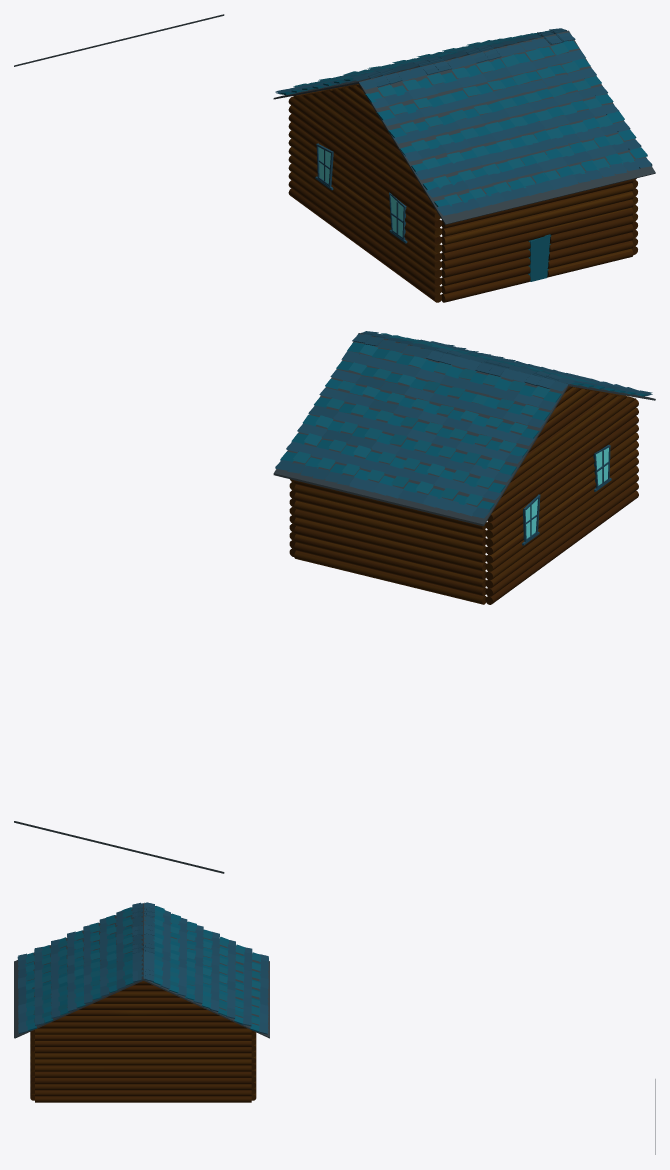
Rendered from home2.fbx.
The picture shows the model from 3 angles, top to bottom: view 1: azimuth 30°, elevation 25°; view 2: azimuth 150°, elevation 25°; view 3: azimuth 270°, elevation 25°; orthographic projection. The views are drawn at different scales.
Visible parts, largest first — view 1: Cylinder.006; view 2: Cylinder.006; view 3: Cylinder.006.
Part boxes in pixels (x1,y1,x2,y2): Cylinder.006: (14, 14, 655, 302); Cylinder.006: (14, 331, 655, 873); Cylinder.006: (14, 902, 655, 1154).
Size of the model in its own units: 871 by 936 by 3061.
11 materials, 1 textured.
